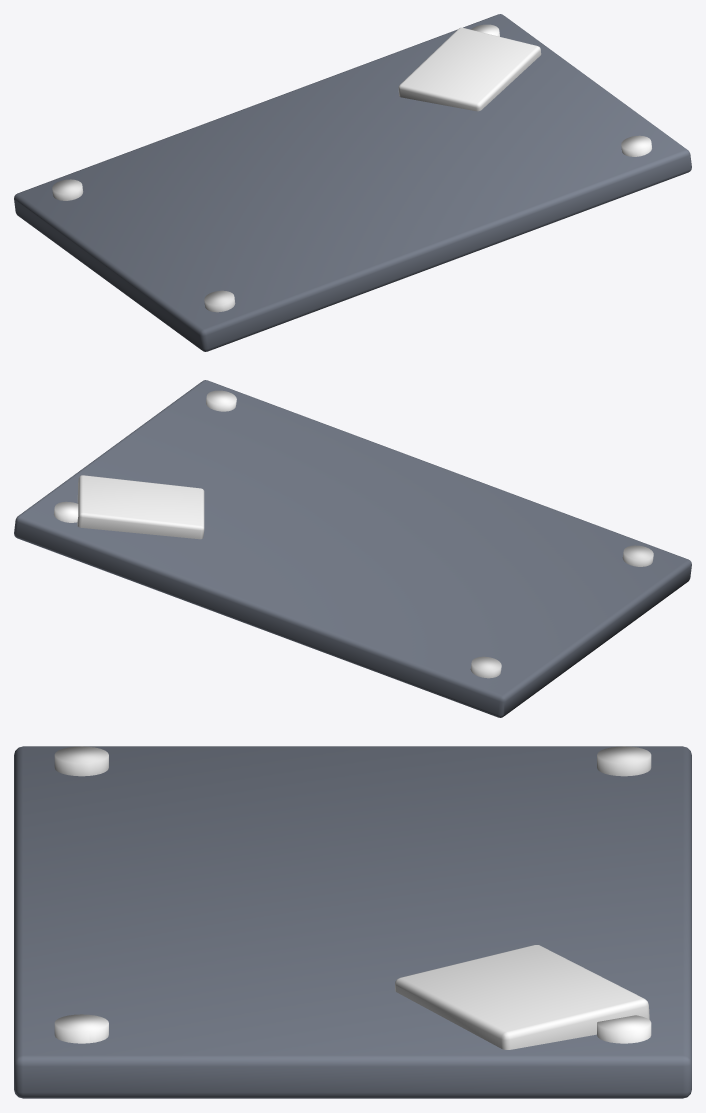
File: metal-sheet.obj
3 views of the same model, one above another, from view 1: azimuth 30°, elevation 25°; view 2: azimuth 150°, elevation 25°; view 3: azimuth 270°, elevation 25° (orthographic). The views are drawn at different scales.
Visible parts, largest first — view 1: metal-sheet; view 2: metal-sheet; view 3: metal-sheet.
Part boxes in pixels (x1=…): metal-sheet: x1=14, y1=14, x2=691, y2=351; metal-sheet: x1=14, y1=380, x2=691, y2=717; metal-sheet: x1=14, y1=746, x2=691, y2=1098.
Size of the model in its own units: 0.8962 by 0.1601 by 0.6.
